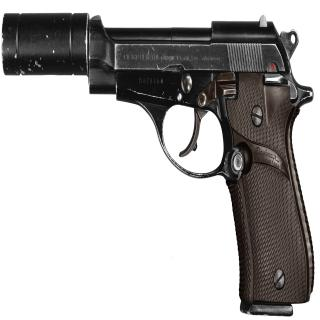gun: (4, 9, 317, 314)
